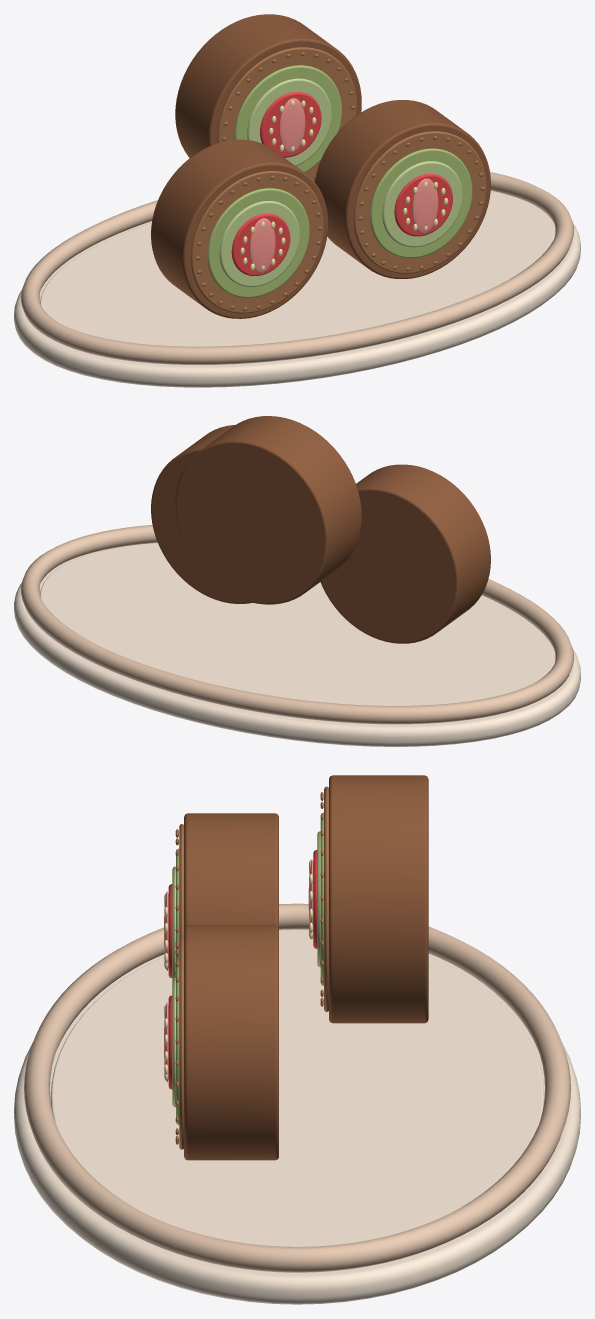
Rendered from kue-operasi-hitung.glb.
The picture shows the model from 3 angles, top to bottom: view 1: azimuth 30°, elevation 25°; view 2: azimuth 150°, elevation 25°; view 3: azimuth 270°, elevation 25°; orthographic projection. The views are drawn at different scales.
Visible parts, largest first — view 1: Oval_Plate_Inner, Plate_Raised_Rim, Oval_Plate_Base, Slice_01_Outer_Sponge, Slice_02_Outer_Sponge, Slice_03_Outer_Sponge, Slice_01_Chocolate_Crumb, Slice_02_Chocolate_Crumb, Slice_03_Chocolate_Crumb, Slice_02_Pandan_Cream, Slice_01_Pandan_Cream, Slice_03_Pandan_Cream (+9 smaller); view 2: Oval_Plate_Inner, Slice_03_Outer_Sponge, Slice_01_Outer_Sponge, Plate_Raised_Rim, Oval_Plate_Base, Slice_02_Outer_Sponge; view 3: Oval_Plate_Inner, Plate_Raised_Rim, Slice_03_Outer_Sponge, Oval_Plate_Base, Slice_02_Outer_Sponge, Slice_01_Outer_Sponge, Slice_03_Chocolate_Crumb, Slice_02_Chocolate_Crumb.
Boxes of the visible parts, x1,y1,x2,y2 form: Oval_Plate_Inner: (40,191,554,346); Plate_Raised_Rim: (21,172,573,364); Oval_Plate_Base: (14,191,580,387); Slice_01_Outer_Sponge: (151,139,328,318); Slice_02_Outer_Sponge: (315,100,490,278); Slice_03_Outer_Sponge: (175,14,361,157); Slice_01_Chocolate_Crumb: (191,171,323,313); Slice_02_Chocolate_Crumb: (353,131,486,273); Slice_03_Chocolate_Crumb: (217,47,356,181); Slice_02_Pandan_Cream: (370,148,472,257); Slice_01_Pandan_Cream: (207,188,309,297); Slice_03_Pandan_Cream: (234,65,341,172); Oval_Plate_Inner: (40,543,554,705); Slice_03_Outer_Sponge: (175,416,361,604); Slice_01_Outer_Sponge: (320,464,490,643); Plate_Raised_Rim: (21,525,573,724); Oval_Plate_Base: (14,543,580,746); Slice_02_Outer_Sponge: (151,425,252,603); Oval_Plate_Inner: (50,930,544,1246); Plate_Raised_Rim: (24,903,570,1272); Slice_03_Outer_Sponge: (329,775,428,1023); Oval_Plate_Base: (14,929,580,1304); Slice_02_Outer_Sponge: (184,924,278,1160); Slice_01_Outer_Sponge: (184,813,278,927); Slice_03_Chocolate_Crumb: (324,786,328,1011); Slice_02_Chocolate_Crumb: (179,935,183,1149).
Size of the model in its own units: 5.6 by 2.45 by 3.7.
